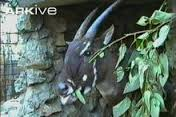sao_la: (61, 1, 129, 108)
